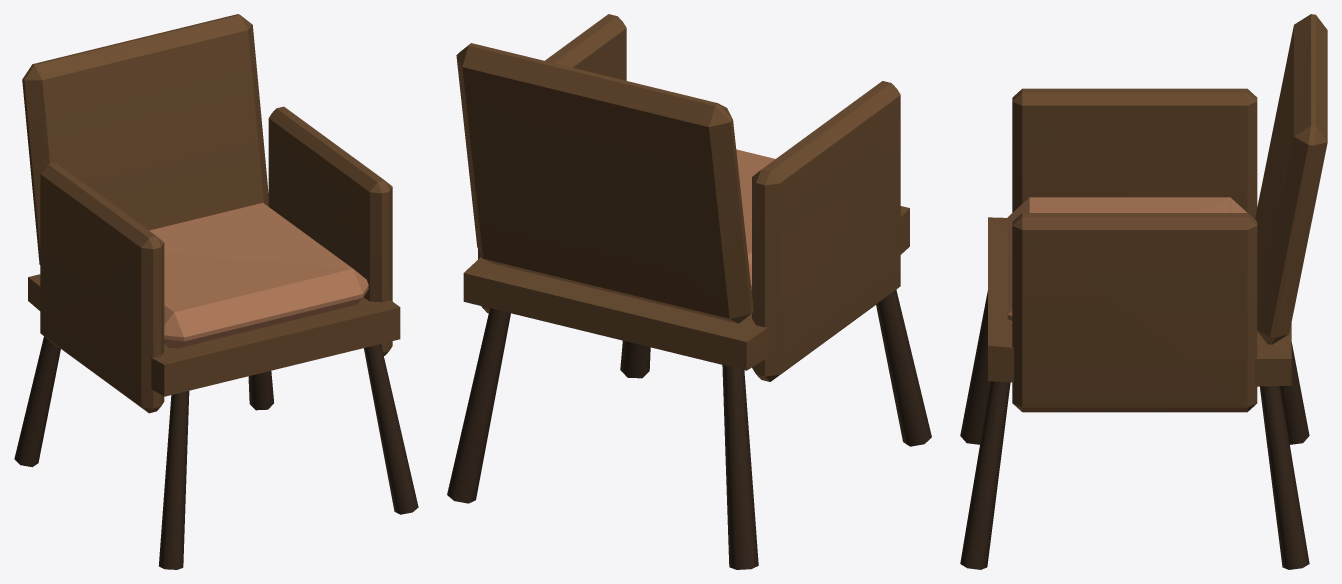
File: accent_chair.glb
3 renders of one model, left to right at view 1: azimuth 30°, elevation 25°; view 2: azimuth 150°, elevation 25°; view 3: azimuth 270°, elevation 25°, orthographic. The views are drawn at different scales.
Visible parts, largest first — view 1: accent_chair; view 2: accent_chair; view 3: accent_chair.
Boxes of the visible parts, left/top/right/bottom form: accent_chair: left=14, top=14, right=418, bottom=569; accent_chair: left=447, top=14, right=931, bottom=569; accent_chair: left=960, top=14, right=1327, bottom=569.
Bounding box in the file's own units: 0.6666 × 0.9781 × 0.7506.
